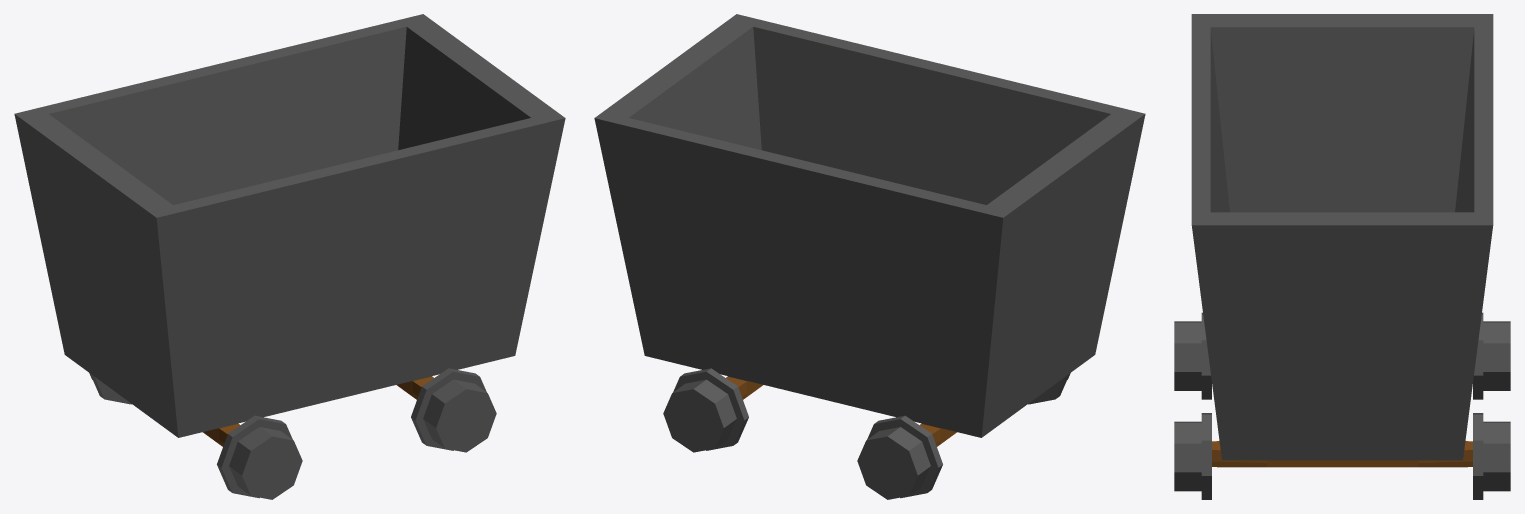
The model's file is Minecart.fbx.
3 renders of one model, left to right at view 1: azimuth 30°, elevation 25°; view 2: azimuth 150°, elevation 25°; view 3: azimuth 270°, elevation 25°, orthographic. The views are drawn at different scales.
Visible parts, largest first — view 1: Minecart; view 2: Minecart; view 3: Minecart.
Boxes of the visible parts, bbox=[...] form: Minecart: bbox=[14, 14, 565, 499]; Minecart: bbox=[594, 14, 1145, 499]; Minecart: bbox=[1174, 14, 1510, 499].
Size of the model in its own units: 3.39 by 2.46 by 2.28.
